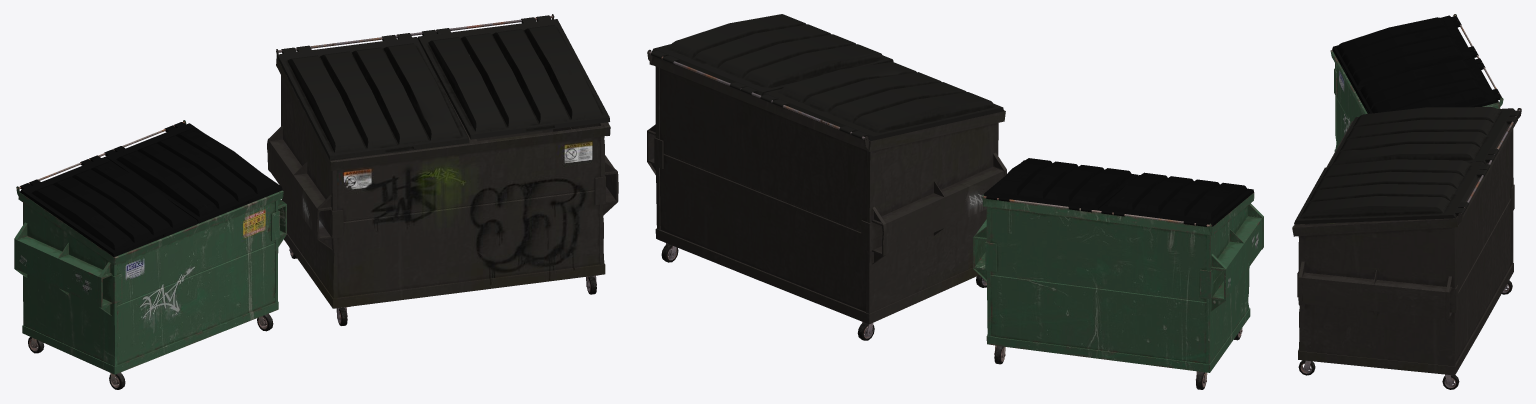
The model's file is dumpster.glb.
3 renders of one model, left to right at view 1: azimuth 30°, elevation 25°; view 2: azimuth 150°, elevation 25°; view 3: azimuth 270°, elevation 25°, orthographic. The views are drawn at different scales.
Visible parts, largest first — view 1: 6Y_6Y_dumpster_tex_0, 4Y_4Y_dumpster_tex_0; view 2: 6Y_6Y_dumpster_tex_0, 4Y_4Y_dumpster_tex_0; view 3: 6Y_6Y_dumpster_tex_0, 4Y_4Y_dumpster_tex_0.
Part boxes in pixels (x1,y1,x2,y2): 6Y_6Y_dumpster_tex_0: (267, 14, 618, 325); 4Y_4Y_dumpster_tex_0: (14, 120, 286, 389); 6Y_6Y_dumpster_tex_0: (647, 14, 1006, 340); 4Y_4Y_dumpster_tex_0: (973, 158, 1263, 389); 6Y_6Y_dumpster_tex_0: (1292, 107, 1521, 389); 4Y_4Y_dumpster_tex_0: (1330, 14, 1503, 151).
Size of the model in its own units: 117 by 41.36 by 46.93.
Materials: 2 (2 with a texture image).
